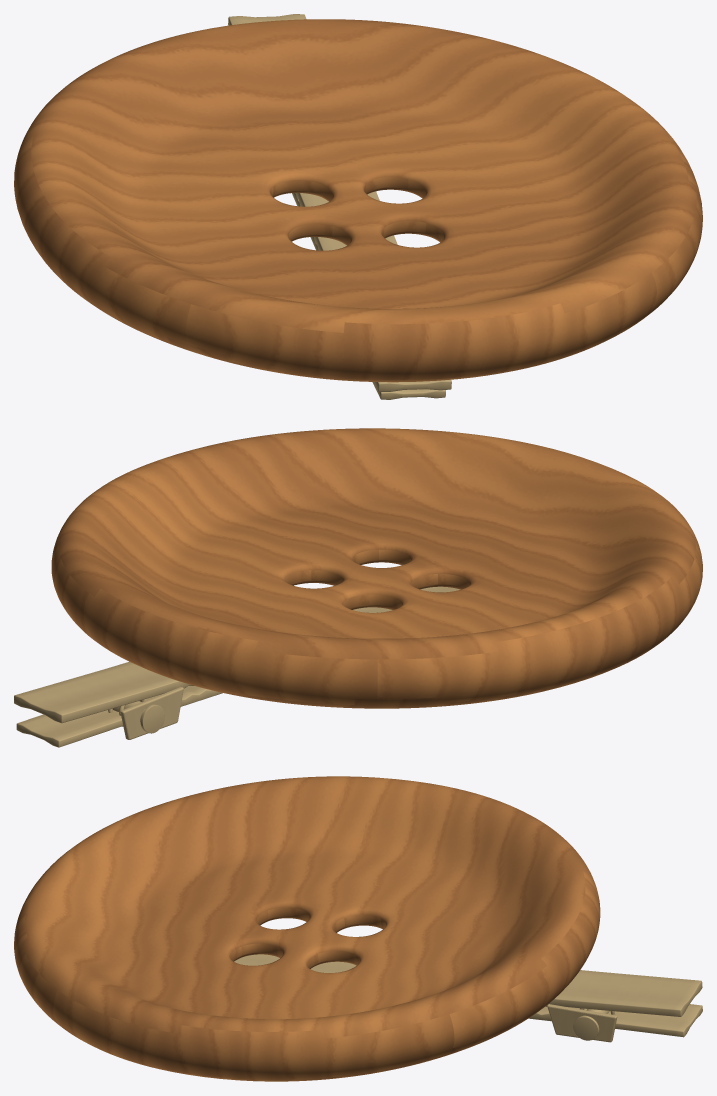
Rendered from HairClip_Wood.glb.
3 views of the same model, one above another, from view 1: azimuth 30°, elevation 25°; view 2: azimuth 150°, elevation 25°; view 3: azimuth 270°, elevation 25° (orthographic). The views are drawn at different scales.
Parts seen in each view (by area): view 1: HairClip_Wood__Pink_Four_Hole_Button, HairClip_Wood__Fixed_Serrated_Jaw, HairClip_Wood__Moving_Jaw_Static_Pose; view 2: HairClip_Wood__Pink_Four_Hole_Button, HairClip_Wood__Fixed_Serrated_Jaw, HairClip_Wood__Moving_Jaw_Static_Pose, HairClip_Wood__Pivot_Cheek_L, HairClip_Wood__Pivot_Head_L; view 3: HairClip_Wood__Pink_Four_Hole_Button, HairClip_Wood__Fixed_Serrated_Jaw, HairClip_Wood__Moving_Jaw_Static_Pose, HairClip_Wood__Pivot_Cheek_R, HairClip_Wood__Pivot_Head_R.
Boxes of the visible parts, box(x1,y1,x2,y2) form: HairClip_Wood__Pink_Four_Hole_Button: box(14, 19, 702, 382); HairClip_Wood__Fixed_Serrated_Jaw: box(228, 14, 451, 391); HairClip_Wood__Moving_Jaw_Static_Pose: box(292, 193, 445, 399); HairClip_Wood__Pink_Four_Hole_Button: box(51, 428, 702, 708); HairClip_Wood__Fixed_Serrated_Jaw: box(14, 586, 460, 723); HairClip_Wood__Moving_Jaw_Static_Pose: box(16, 686, 222, 747); HairClip_Wood__Pivot_Cheek_L: box(120, 687, 183, 739); HairClip_Wood__Pivot_Head_L: box(140, 704, 164, 733); HairClip_Wood__Pink_Four_Hole_Button: box(14, 776, 600, 1081); HairClip_Wood__Fixed_Serrated_Jaw: box(234, 954, 702, 1016); HairClip_Wood__Moving_Jaw_Static_Pose: box(528, 1004, 702, 1037); HairClip_Wood__Pivot_Cheek_R: box(547, 1004, 617, 1042); HairClip_Wood__Pivot_Head_R: box(573, 1015, 599, 1040).
Size of the model in its own units: 39.86 by 8.06 by 46.77.
2 materials, 2 textured.
